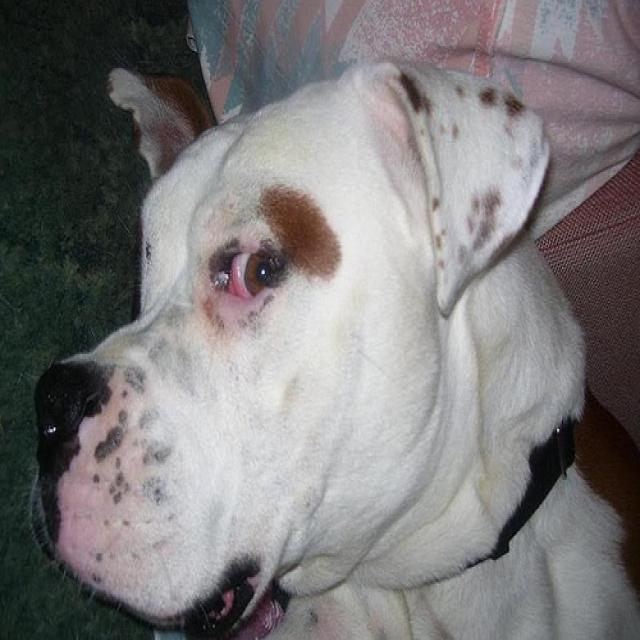dog-american_bulldog: (22, 53, 637, 637)
